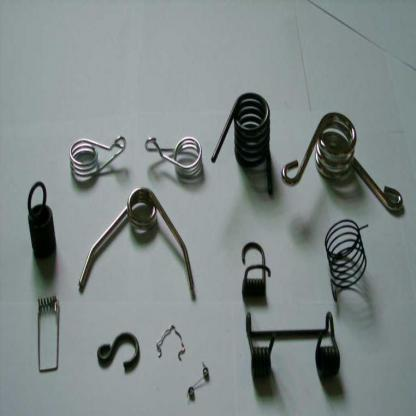FOD: (77, 183, 196, 296), (281, 109, 405, 214), (209, 91, 274, 196), (323, 216, 371, 306), (144, 133, 204, 181), (68, 134, 127, 182), (34, 292, 62, 373), (240, 241, 272, 304)
